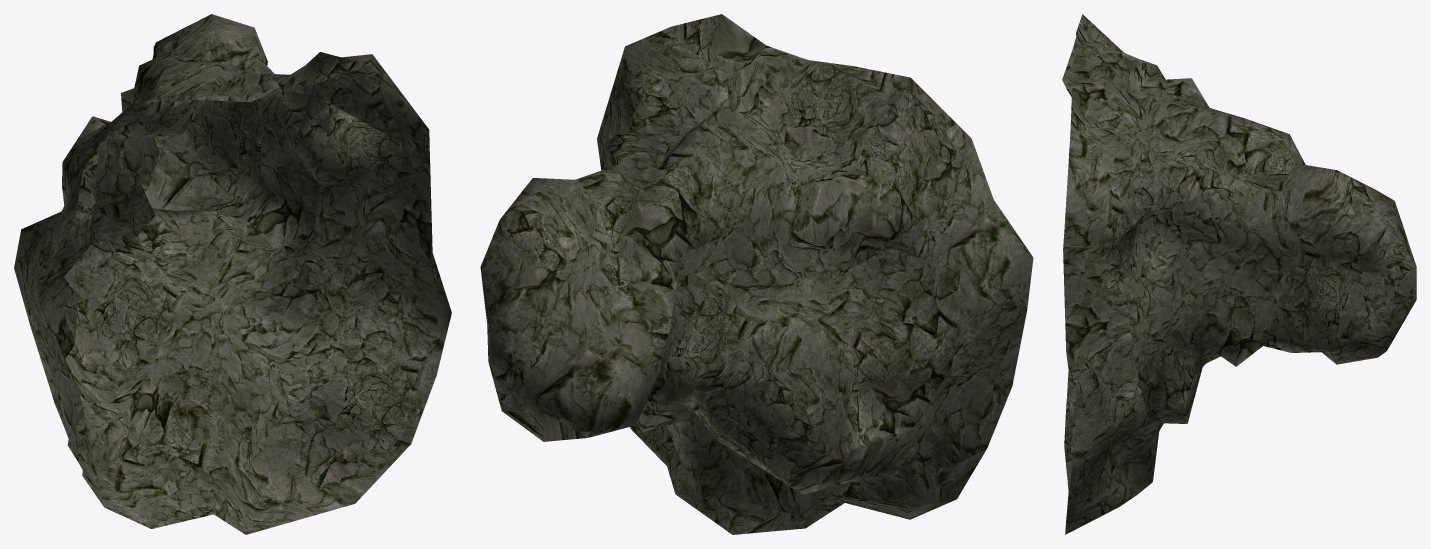
File: TI_Cliff_03_h_LOD_01.fbx
3 renders of one model, left to right at view 1: azimuth 30°, elevation 25°; view 2: azimuth 150°, elevation 25°; view 3: azimuth 270°, elevation 25°, orthographic. The views are drawn at different scales.
Parts seen in each view (by area): view 1: TI_Cliff_03_h_LOD_01; view 2: TI_Cliff_03_h_LOD_01; view 3: TI_Cliff_03_h_LOD_01.
Part boxes in pixels (box(x1,y1,x2,y2)): TI_Cliff_03_h_LOD_01: box(14, 14, 451, 534); TI_Cliff_03_h_LOD_01: box(480, 14, 1033, 534); TI_Cliff_03_h_LOD_01: box(1062, 14, 1416, 534).
Size of the model in its own units: 8.93 by 9.14 by 6.69.
